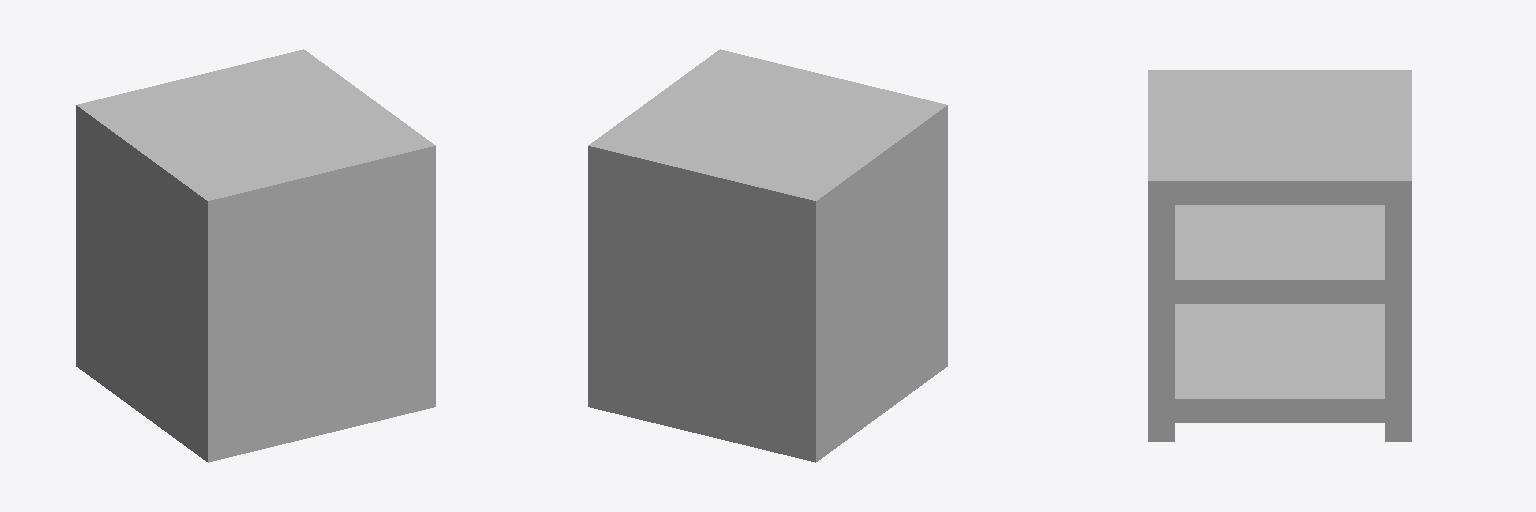
Rendered from entertainment.obj.
The picture shows the model from 3 angles: view 1: azimuth 30°, elevation 25°; view 2: azimuth 150°, elevation 25°; view 3: azimuth 270°, elevation 25°; orthographic projection.
Visible parts, largest first — view 1: Cube; view 2: Cube; view 3: Cube.
Boxes of the visible parts, <box> form: Cube: <box>76,49,435,462</box>; Cube: <box>588,49,947,462</box>; Cube: <box>1148,70,1411,441</box>.
Size of the model in its own units: 2 by 2.19 by 2.